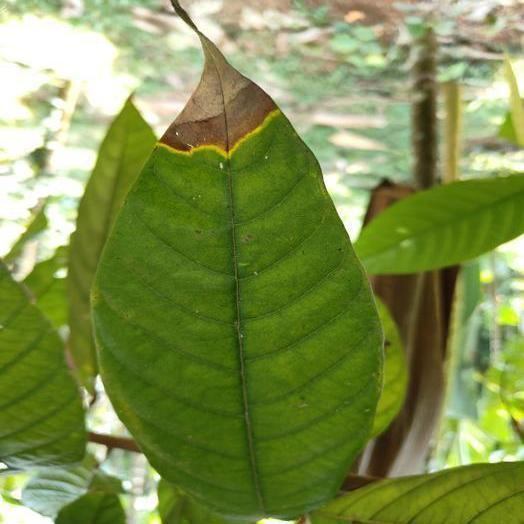Potassium: (92, 0, 382, 518)
